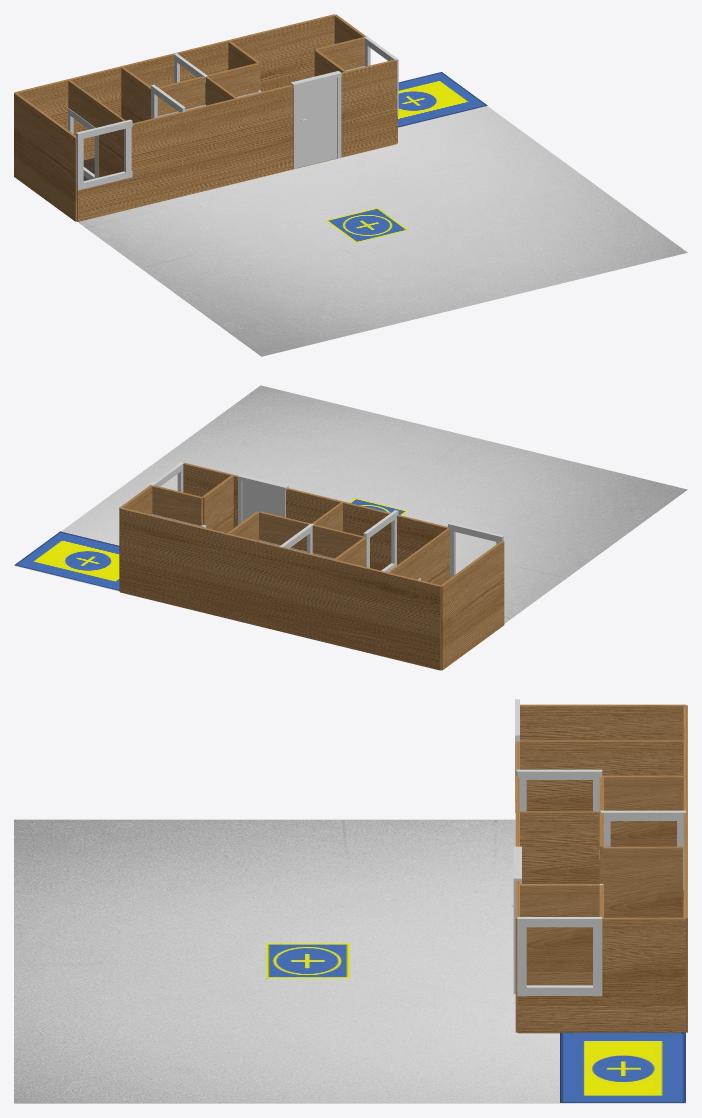
The model's file is Robocup4.dae.
The picture shows the model from 3 angles, top to bottom: view 1: azimuth 30°, elevation 25°; view 2: azimuth 150°, elevation 25°; view 3: azimuth 270°, elevation 25°; orthographic projection. The views are drawn at different scales.
Visible parts, largest first — view 1: Plane.001, Cube, Cube.001, Cube.003, Cube.015, Plane.002, Cube.012, Plane.003, Cube.028, Cube.010, Cube.009, Cube.007 (+5 smaller); view 2: Plane.001, Cube.001, Cube, Cube.003, Plane.002, Cube.012, Cube.005, Cube.004, Cube.007, Cube.015, Cube.009, Cube.029 (+5 smaller); view 3: Plane.001, Cube.023, Plane.002, Cube.012, Cube.004, Cube.003, Cube.006, Cube.008, Cube.010, Plane.003, Cube.029, Cube.031 (+6 smaller).
Boxes of the visible parts, x1,y1,x2,y2 form: Plane.001: (78, 106, 687, 356); Cube: (77, 59, 397, 221); Cube.001: (14, 14, 334, 160); Cube.003: (14, 93, 76, 221); Cube.015: (297, 77, 336, 167); Plane.002: (398, 72, 487, 127); Cube.012: (68, 80, 125, 177); Plane.003: (325, 207, 408, 242); Cube.028: (76, 119, 132, 190); Cube.010: (121, 67, 150, 123); Cube.009: (157, 76, 205, 116); Cube.007: (207, 63, 258, 97); Plane.001: (14, 385, 687, 623); Cube.001: (120, 508, 441, 670); Cube: (183, 462, 447, 570); Cube.003: (440, 541, 504, 670); Plane.002: (14, 531, 119, 590); Cube.012: (387, 528, 449, 585); Cube.005: (152, 485, 202, 525); Cube.004: (202, 475, 233, 532); Cube.007: (259, 511, 310, 551); Cube.015: (242, 480, 281, 521); Cube.009: (312, 524, 363, 558); Cube.029: (363, 510, 398, 572); Plane.001: (14, 819, 685, 1103); Cube.023: (518, 917, 685, 1033); Plane.002: (560, 1032, 685, 1102); Cube.012: (520, 740, 685, 811); Cube.004: (520, 884, 599, 985); Cube.003: (520, 704, 685, 740); Cube.006: (518, 811, 683, 917); Cube.008: (603, 846, 682, 917); Cube.010: (602, 775, 685, 846); Plane.003: (266, 943, 349, 978); Cube.029: (515, 769, 602, 811); Cube.031: (600, 810, 686, 889).
Size of the model in its own units: 8.03 by 8.03 by 1.59.
Materials: 21 (19 with a texture image).
